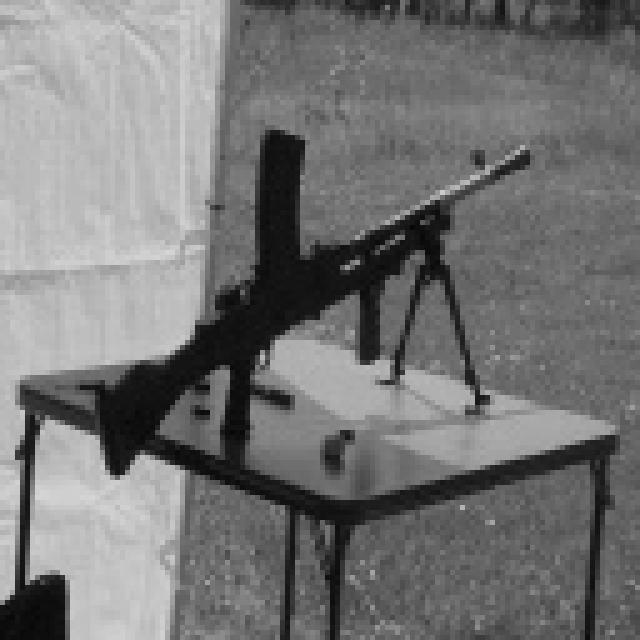Rifle: (89, 110, 549, 488)
